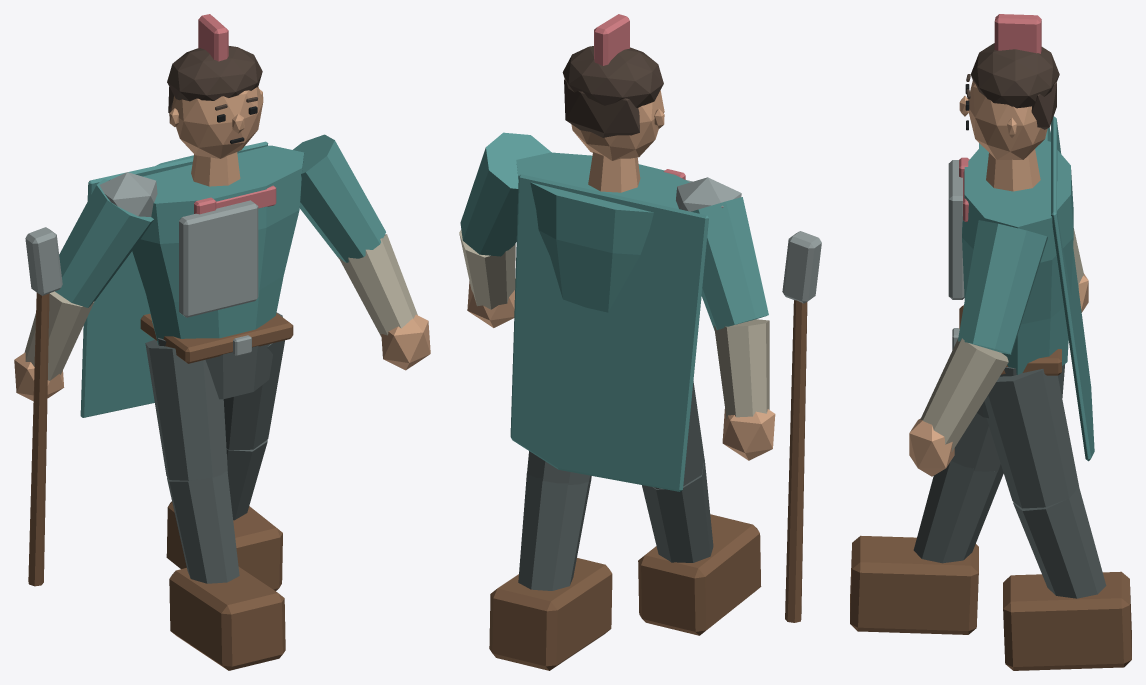
File: npc_raider_step_l_v01.glb
3 views of the same model, side by side, from view 1: azimuth 30°, elevation 25°; view 2: azimuth 150°, elevation 25°; view 3: azimuth 270°, elevation 25° (orthographic). The views are drawn at different scales.
Parts seen in each view (by area): view 1: GEO_npc_raider_step_l_v01; view 2: GEO_npc_raider_step_l_v01; view 3: GEO_npc_raider_step_l_v01.
Boxes of the visible parts, x1,y1,x2,y2 form: GEO_npc_raider_step_l_v01: [14, 14, 430, 670]; GEO_npc_raider_step_l_v01: [459, 14, 821, 670]; GEO_npc_raider_step_l_v01: [850, 14, 1131, 670].
Size of the model in its own units: 1.41 by 2.16 by 0.8842.
